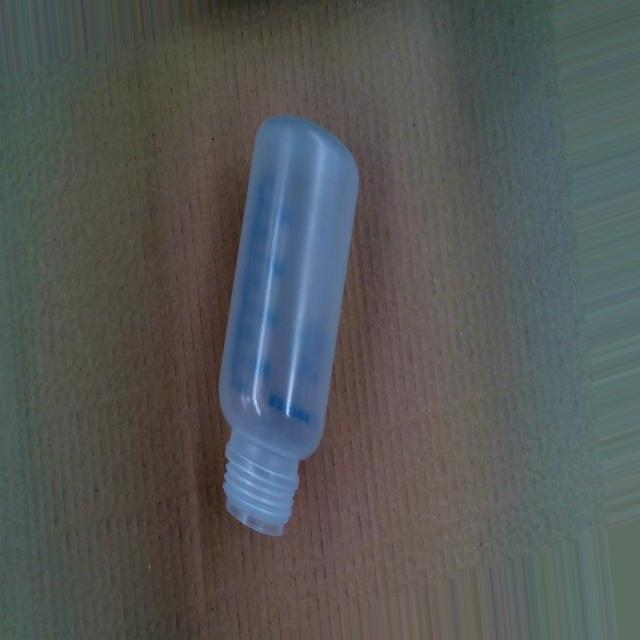bottle: (216, 111, 361, 541)
